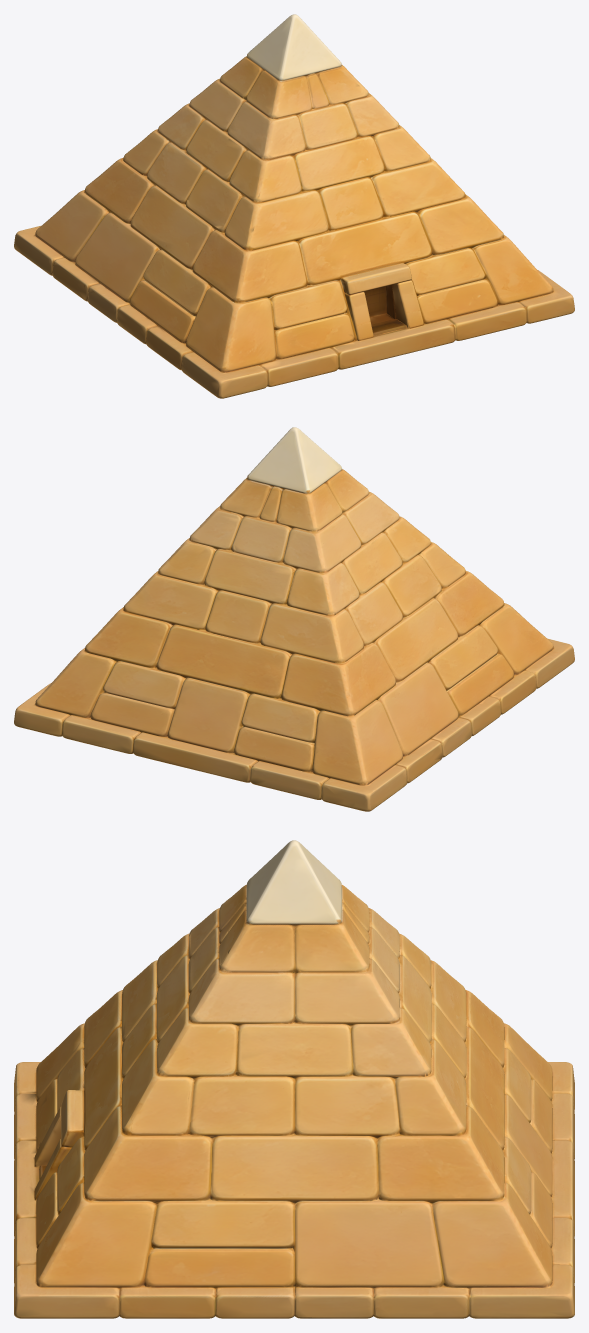
The model's file is golden-pyramid.glb.
The picture shows the model from 3 angles, top to bottom: view 1: azimuth 30°, elevation 25°; view 2: azimuth 150°, elevation 25°; view 3: azimuth 270°, elevation 25°; orthographic projection. The views are drawn at different scales.
Parts seen in each view (by area): view 1: node_0; view 2: node_0; view 3: node_0.
Boxes of the visible parts, x1,y1,x2,y2 form: node_0: (14,14,574,398); node_0: (14,427,574,811); node_0: (14,840,574,1318).
Bounding box in the file's own units: 0.7634 × 0.5451 × 0.7679.
Materials: 1 (1 with a texture image).
